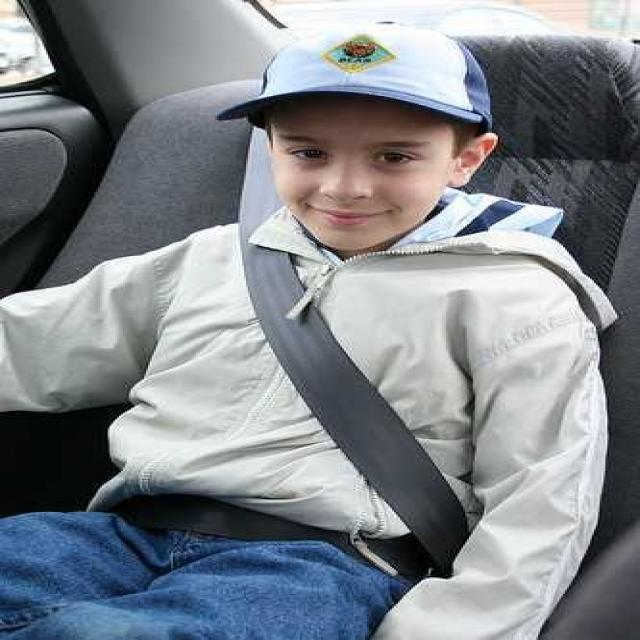seatbelt: (162, 105, 484, 593)
